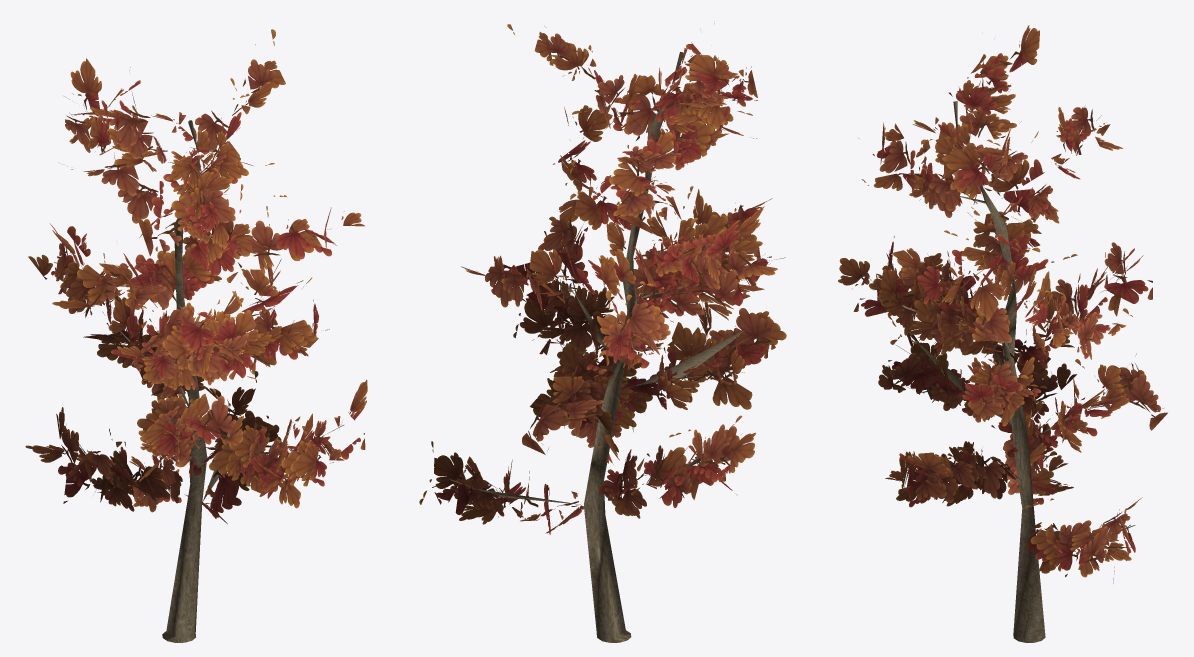
3 renders of one model, left to right at view 1: azimuth 30°, elevation 25°; view 2: azimuth 150°, elevation 25°; view 3: azimuth 270°, elevation 25°, orthographic. The views are drawn at different scales.
Parts seen in each view (by area): view 1: m1, m0; view 2: m1, m0; view 3: m1, m0.
Part boxes in pixels (x1,y1,x2,y2): m1: [25, 29, 367, 524]; m0: [58, 44, 343, 642]; m1: [419, 24, 786, 534]; m0: [444, 21, 785, 642]; m1: [838, 25, 1167, 583]; m0: [859, 54, 1142, 642].
Bounding box in the file's own units: 5.38 × 10.09 × 5.64.
2 materials, 2 textured.
